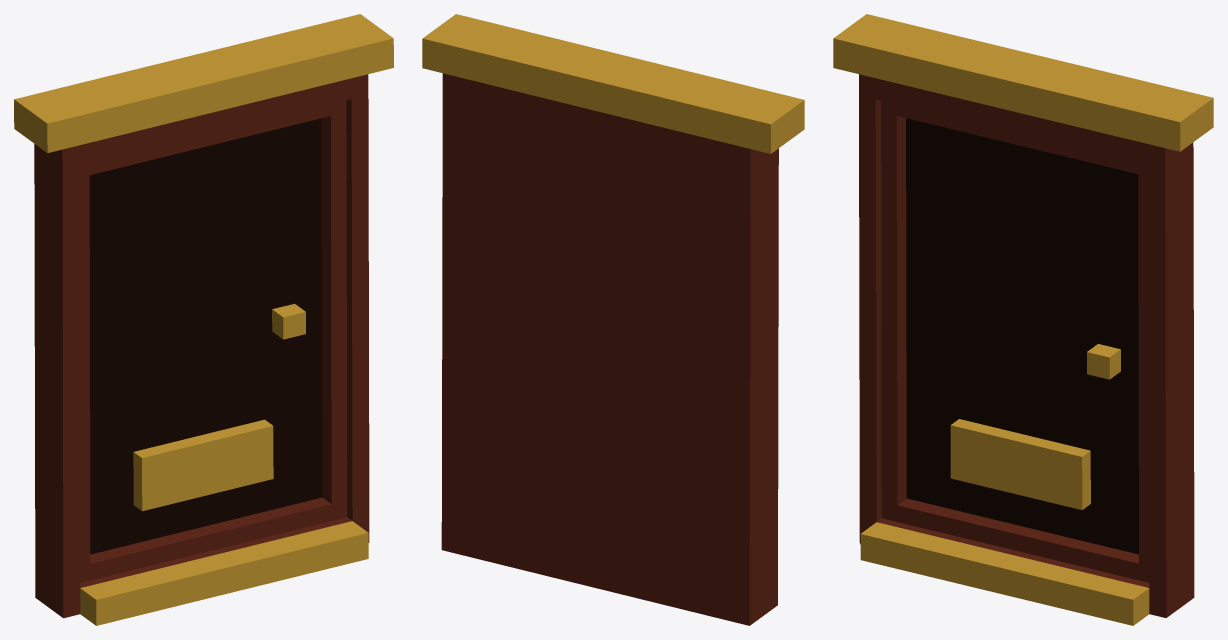
File: Door_House.fbx
3 renders of one model, left to right at view 1: azimuth 30°, elevation 25°; view 2: azimuth 150°, elevation 25°; view 3: azimuth 330°, elevation 25°, orthographic.
Visible parts, largest first — view 1: Mesh (3); view 2: Mesh (3); view 3: Mesh (3).
Boxes of the visible parts, x1,y1,x2,y2 form: Mesh (3): (14, 14, 393, 625); Mesh (3): (422, 14, 804, 625); Mesh (3): (833, 14, 1213, 625).
Bounding box in the file's own units: 187 × 260 × 41.25.
